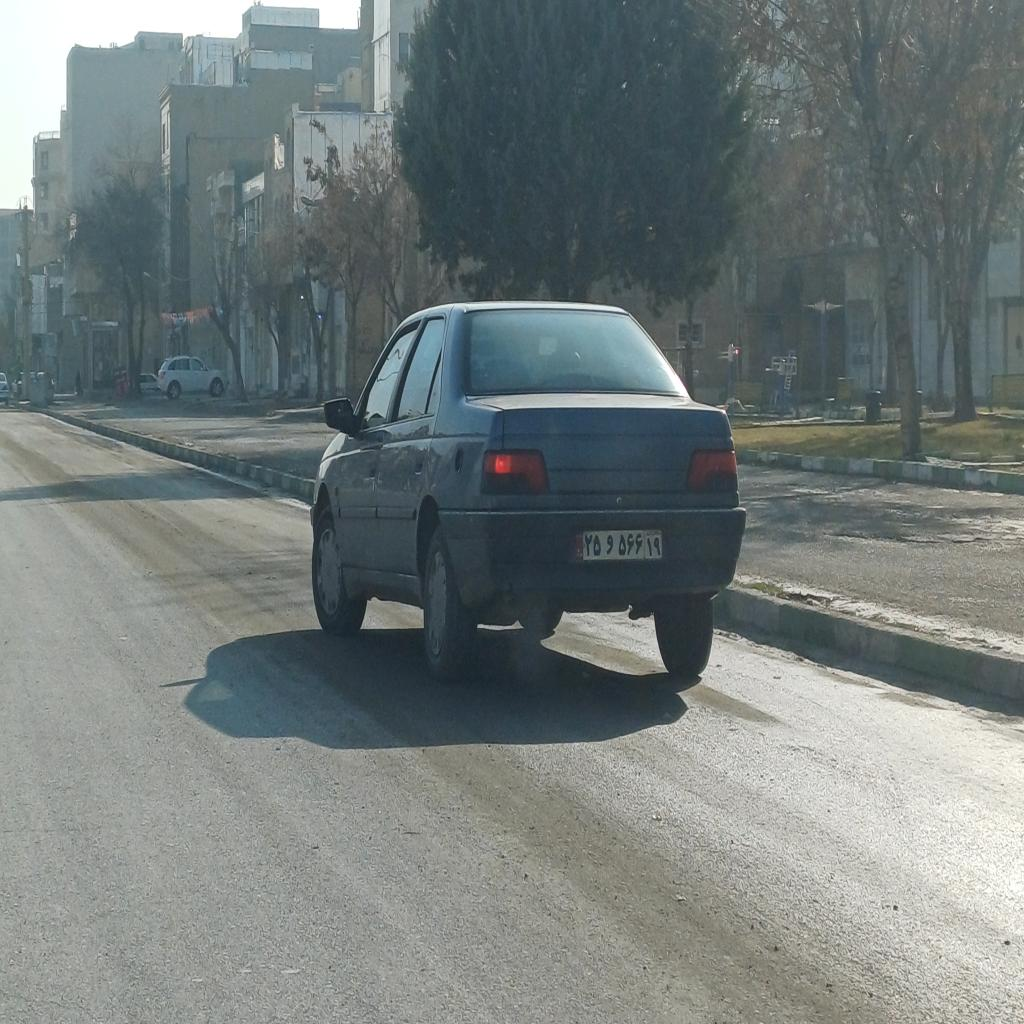Plates: (574, 530, 662, 560)
